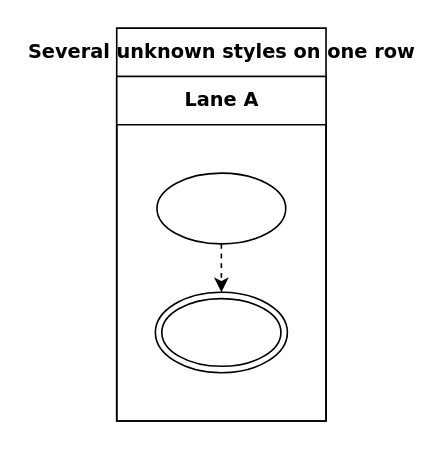
Image size: 441x449. Some labels were removed from this diagram. Each missing label, with the centre of its shape:
Done: (x=220, y=332)
Enter: (x=220, y=207)
